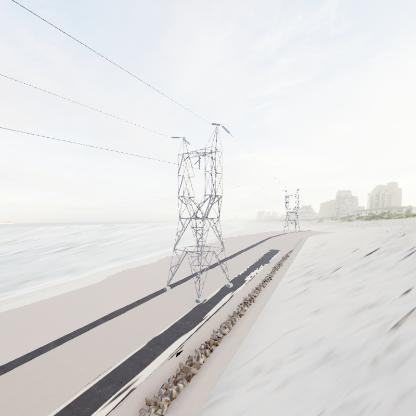tower: (160, 121, 234, 304), (280, 185, 302, 237)
